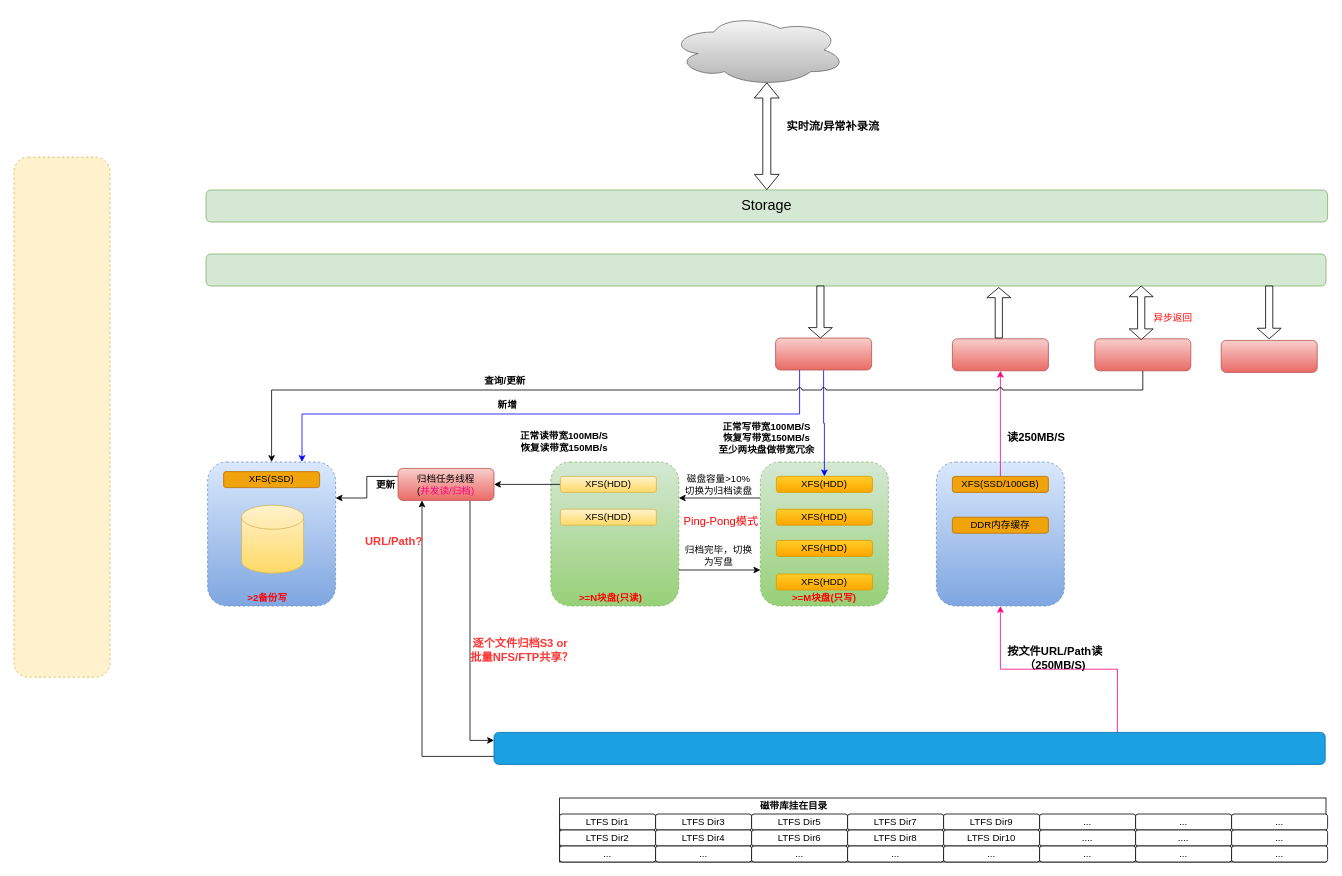
The diagram is 1342 pixels wide and 876 high, and some of its shapes have lost their labels. Here are the shapes that lost their labels. From the top down, the centre of each, then its label:
At [757,49]: "平台".
At [765,269]: "Storage XFS_LTFS Plug".
At [823,353]: "录像写".
At [1000,354]: "录像读".
At [1142,354]: "录像查询".
At [1268,356]: "存储管理 (挂载/格式化/异常..)".
At [272,538]: "检索数据库".
At [909,748]: "第三方归档软件".
